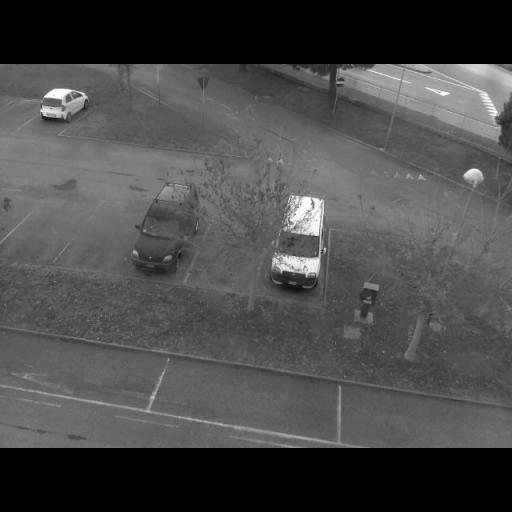busy: (127, 186, 209, 276), (268, 254, 327, 292), (35, 89, 93, 124)
free: (192, 372, 306, 422), (195, 222, 275, 280), (360, 403, 459, 448), (88, 215, 134, 257), (21, 216, 64, 256), (3, 106, 32, 122)
